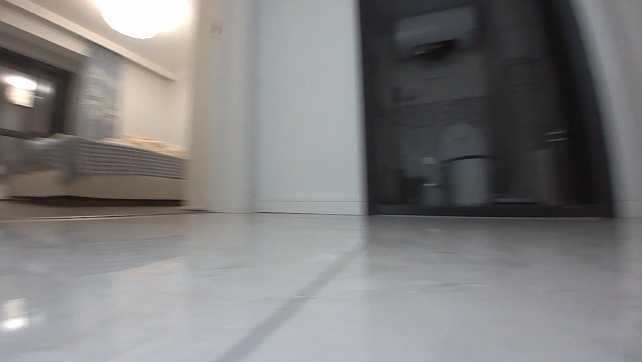bed1: (4, 131, 186, 205)
door_sill: (371, 199, 608, 222)
toilet: (437, 121, 494, 205)
